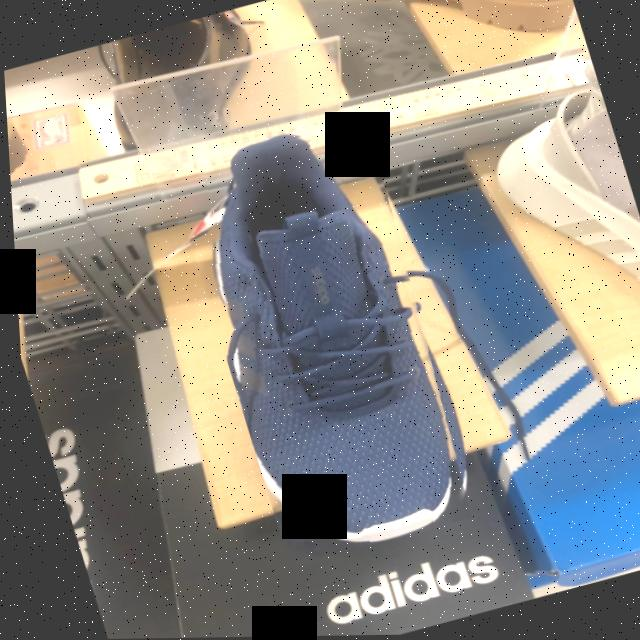shoe: (213, 148, 450, 547)
